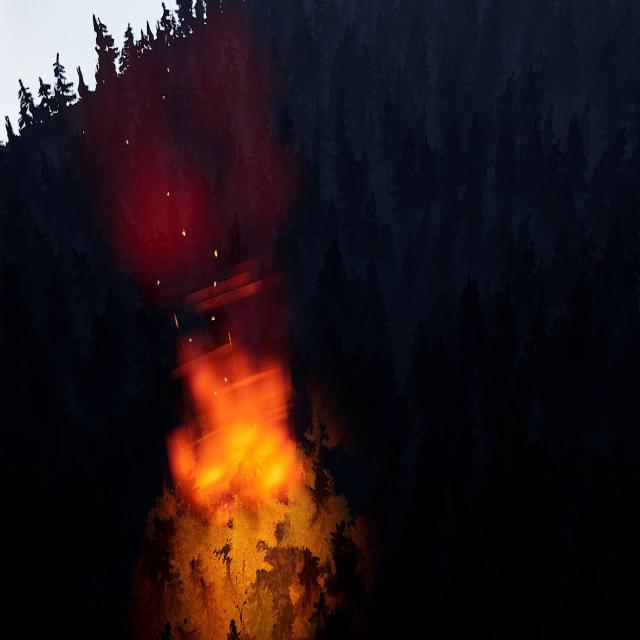fire: (169, 340, 297, 510)
smoke: (86, 14, 289, 384)
